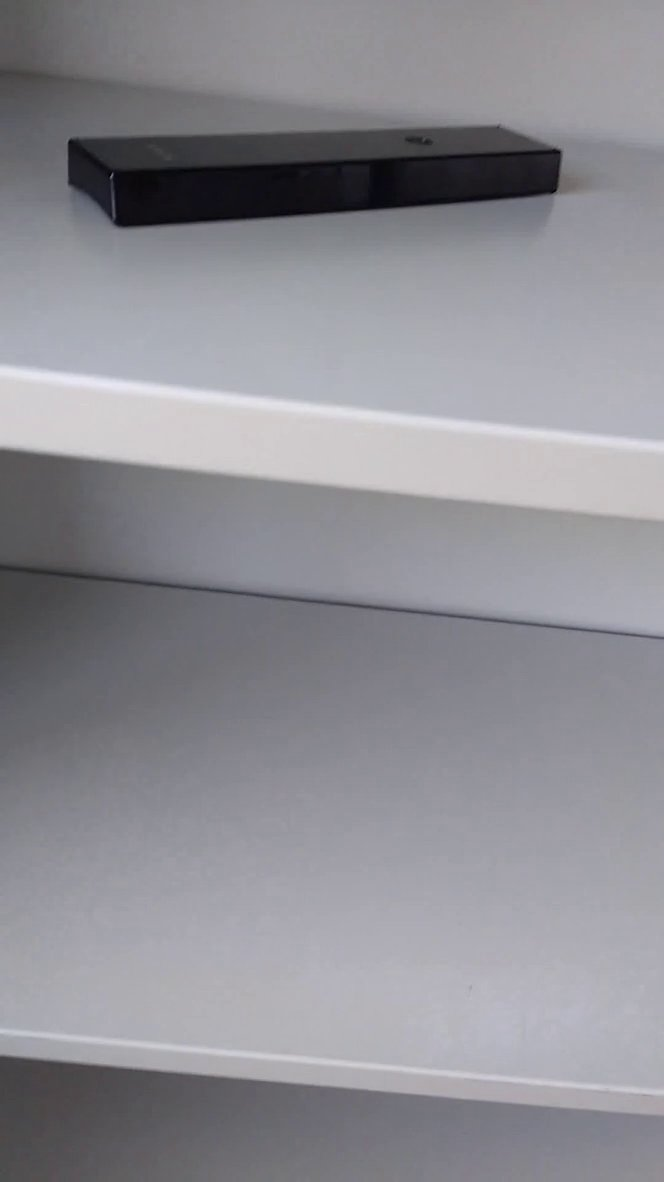remote: (53, 108, 577, 237)
